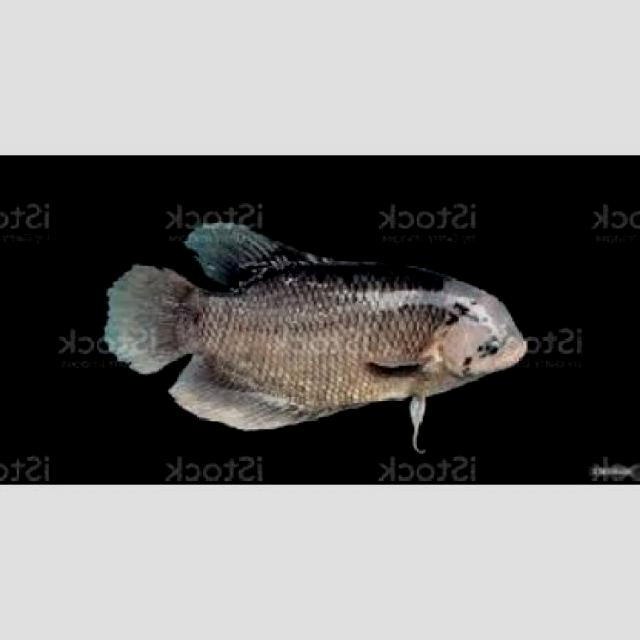gurame: (106, 225, 526, 424)
